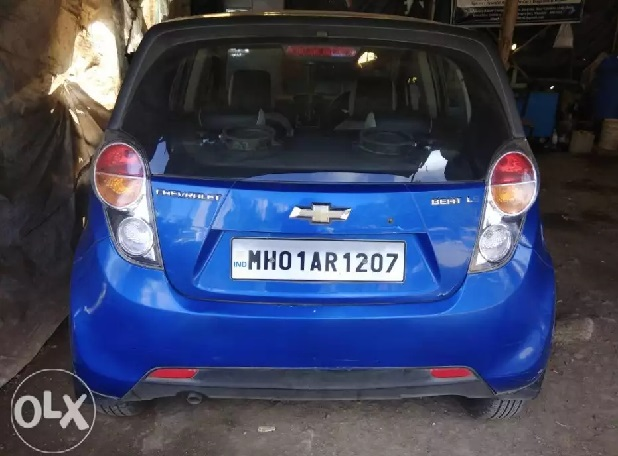licenseplate: (226, 234, 409, 286)
